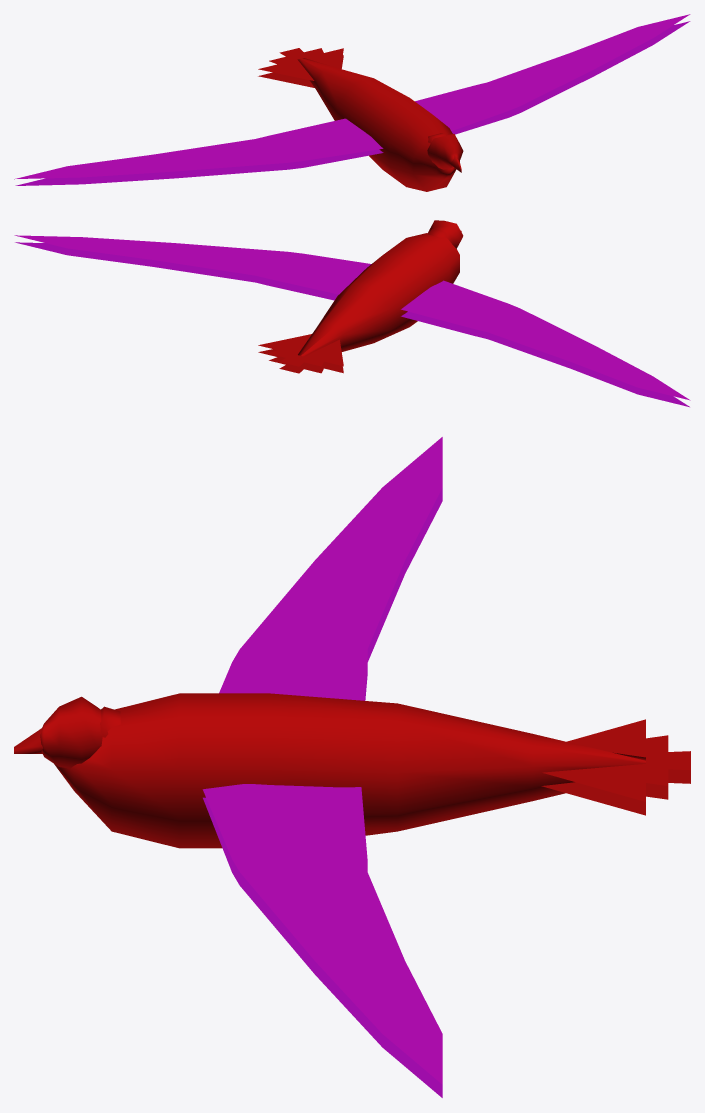
File: commontern.glb
3 renders of one model, top to bottom at view 1: azimuth 30°, elevation 25°; view 2: azimuth 150°, elevation 25°; view 3: azimuth 270°, elevation 25°, orthographic. The views are drawn at different scales.
Visible parts, largest first — view 1: bird; view 2: bird; view 3: bird.
Part boxes in pixels (x1=…): bird: x1=14, y1=14, x2=690, y2=191; bird: x1=14, y1=220, x2=690, y2=407; bird: x1=14, y1=437, x2=690, y2=1097.
Size of the model in its own units: 0.7969 by 0.0742 by 0.3516.
